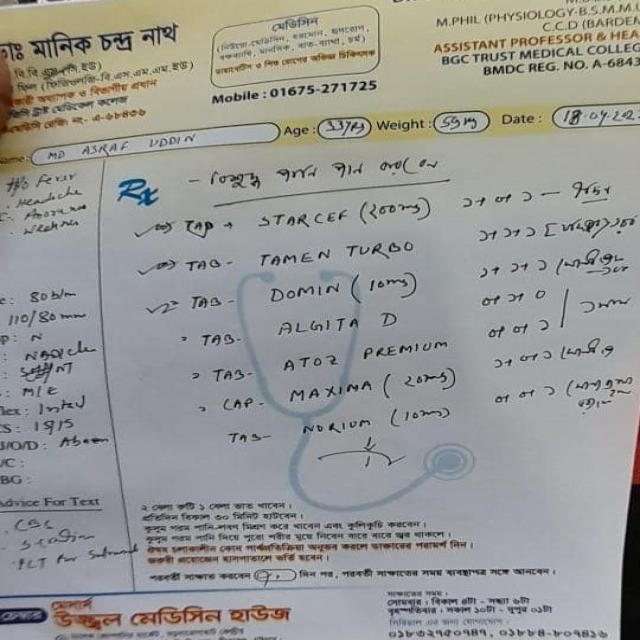A to Z: (281, 339, 341, 373)
Algita D: (275, 313, 422, 341)
Domin: (269, 276, 351, 307)
Maxima: (278, 377, 386, 408)
Norium: (291, 411, 376, 439)
Starcef: (242, 207, 353, 233)
Tamen Turbo: (248, 234, 432, 274)
